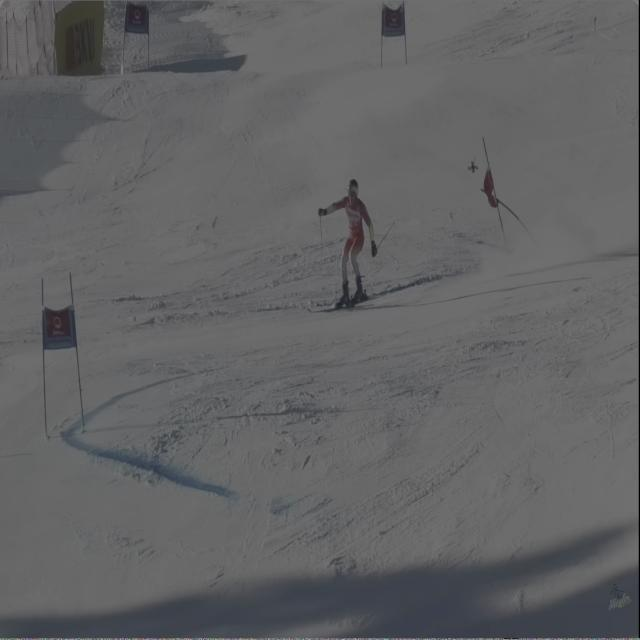gate: (68, 272, 95, 444), (37, 286, 52, 452)
